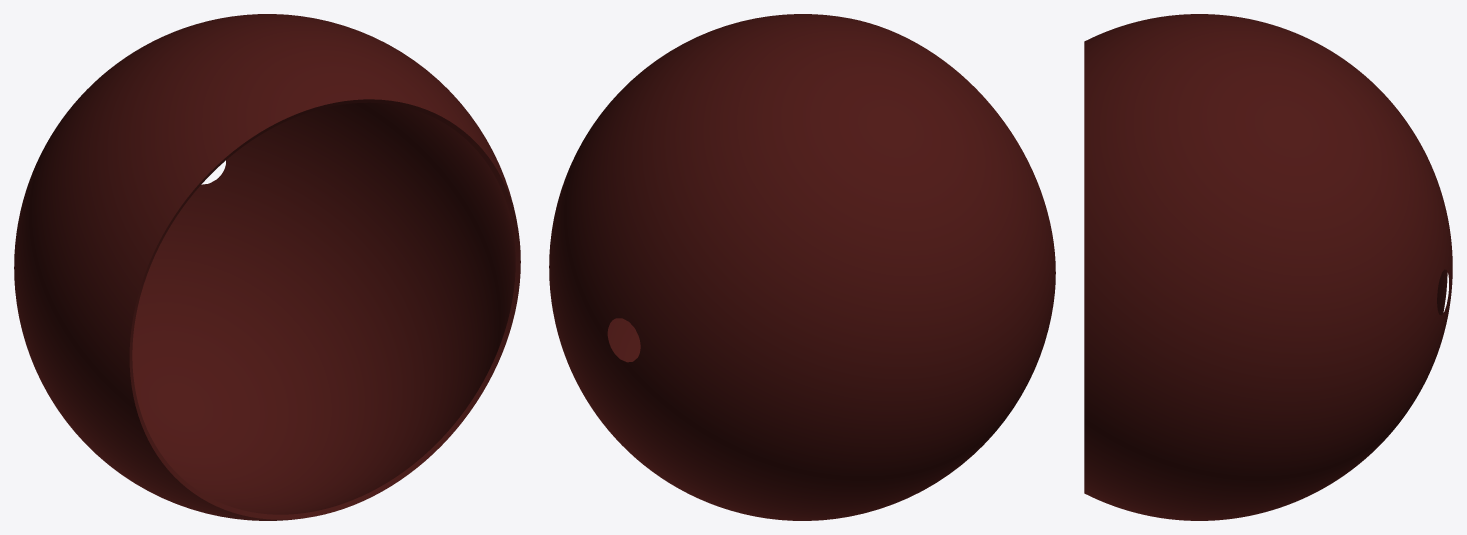
File: choroid.glb
3 renders of one model, left to right at view 1: azimuth 30°, elevation 25°; view 2: azimuth 150°, elevation 25°; view 3: azimuth 270°, elevation 25°, orthographic.
Parts seen in each view (by area): view 1: choroid; view 2: choroid; view 3: choroid.
Boxes of the visible parts, <box> form: choroid: <box>14,14,520,520</box>; choroid: <box>549,14,1055,520</box>; choroid: <box>1084,14,1452,520</box>.
Size of the model in its own units: 0.9461 by 0.9461 by 0.6878.
